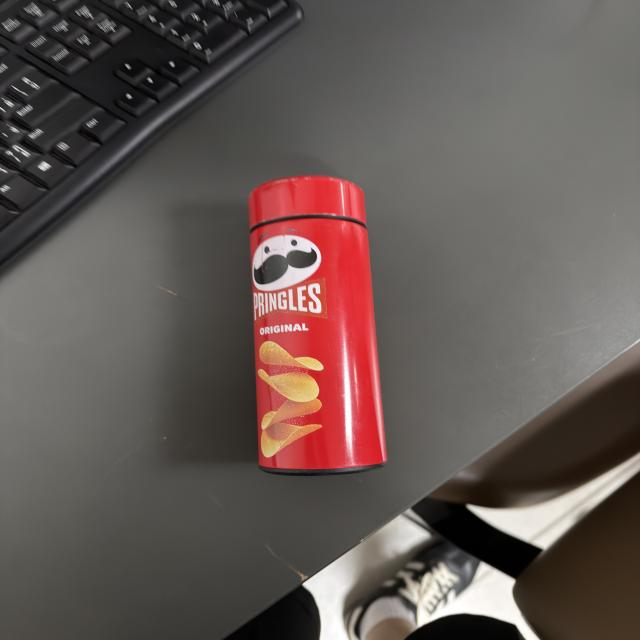water bottle: (243, 173, 390, 477)
